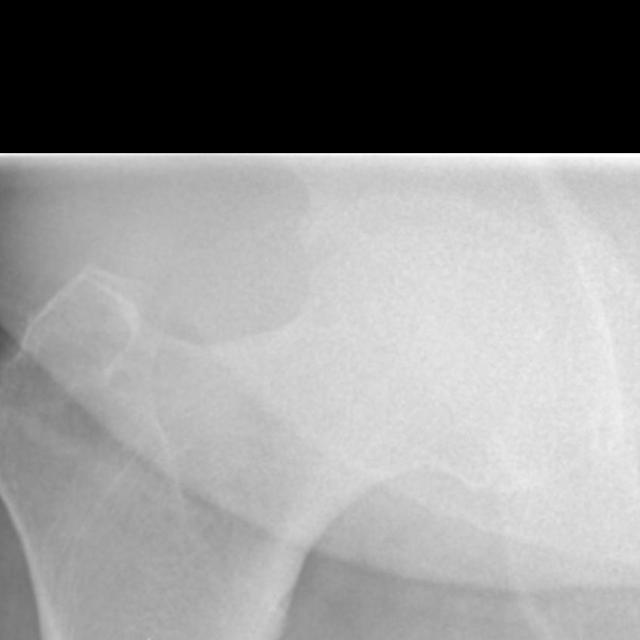Fitted_femural_head: (283, 198, 432, 283)
